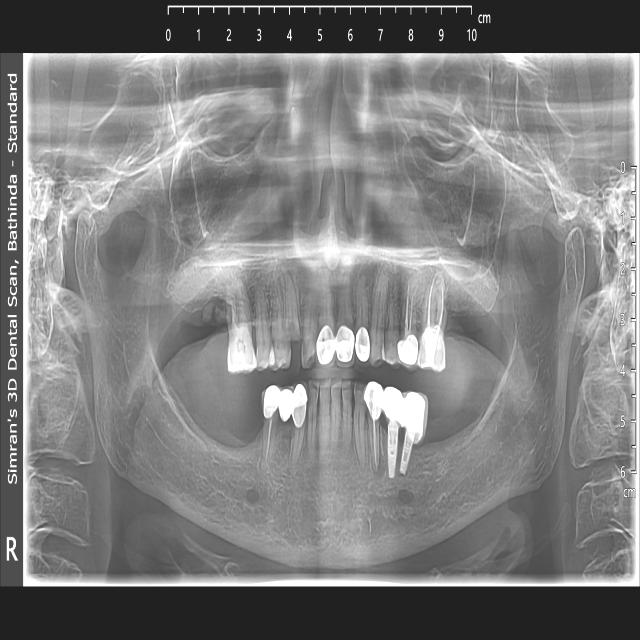Caries: (302, 333, 318, 372)
Crown: (362, 379, 426, 433), (315, 322, 371, 365), (262, 381, 308, 430), (397, 333, 417, 364)
Implant: (398, 429, 417, 473), (386, 418, 399, 478)
Missing teeth: (188, 402, 258, 460), (431, 408, 480, 459), (195, 289, 228, 336), (452, 314, 480, 340)
Periapical lesion: (371, 446, 387, 479)
Root Canal Treatment: (419, 268, 448, 372), (397, 272, 419, 363), (261, 388, 279, 472), (368, 415, 379, 471)
Root Piece: (282, 264, 302, 339)
